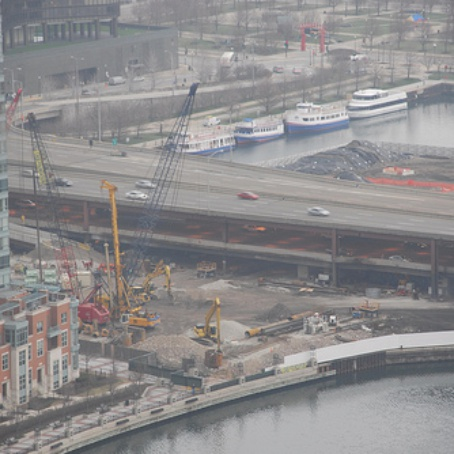boat: (345, 82, 418, 120), (174, 116, 233, 159), (290, 98, 352, 136), (233, 111, 291, 148)
bridge: (17, 133, 454, 299)
building: (1, 279, 81, 410)
crane: (107, 81, 206, 322), (20, 109, 118, 324)
